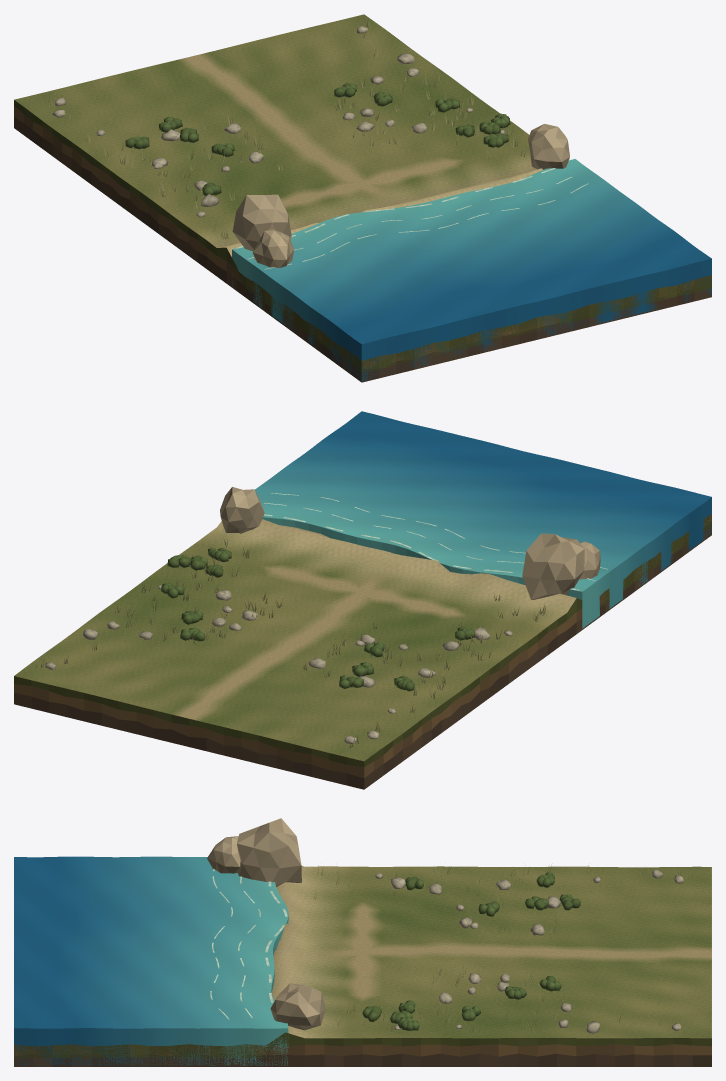
The model's file is littoral_rouge.glb.
3 renders of one model, top to bottom at view 1: azimuth 30°, elevation 25°; view 2: azimuth 150°, elevation 25°; view 3: azimuth 270°, elevation 25°, orthographic.
Parts seen in each view (by area): view 1: Sol_Littoral, Mer_En_Volume, Coupe_Terre, Cap_Granitique_00, Cap_Granitique_02, Cap_Granitique_01, Ecume; view 2: Sol_Littoral, Mer_En_Volume, Coupe_Terre, Cap_Granitique_00, Cap_Granitique_02, Ecume; view 3: Sol_Littoral, Mer_En_Volume, Coupe_Terre, Cap_Granitique_00, Cap_Granitique_02, Cap_Granitique_01, Ecume.
Boxes of the visible parts, x1,y1,x2,y2 form: Sol_Littoral: (14,14,542,256); Mer_En_Volume: (232,159,711,381); Coupe_Terre: (14,100,711,382); Cap_Granitique_00: (232,194,291,251); Cap_Granitique_02: (528,124,569,169); Cap_Granitique_01: (252,229,294,267); Ecume: (235,168,588,269); Sol_Littoral: (14,519,576,761); Mer_En_Volume: (255,411,711,628); Coupe_Terre: (14,514,711,789); Cap_Granitique_00: (522,533,584,599); Cap_Granitique_02: (220,487,264,533); Ecume: (264,493,607,590); Sol_Littoral: (271,866,711,1038); Mer_En_Volume: (14,856,288,1065); Coupe_Terre: (14,1032,711,1066); Cap_Granitique_00: (237,818,301,886); Cap_Granitique_02: (270,983,325,1030); Cap_Granitique_01: (207,836,240,873); Ecume: (210,869,287,1019).
Size of the model in its own units: 2.82 by 0.6701 by 4.85.
Materials: 3 (1 with a texture image).
